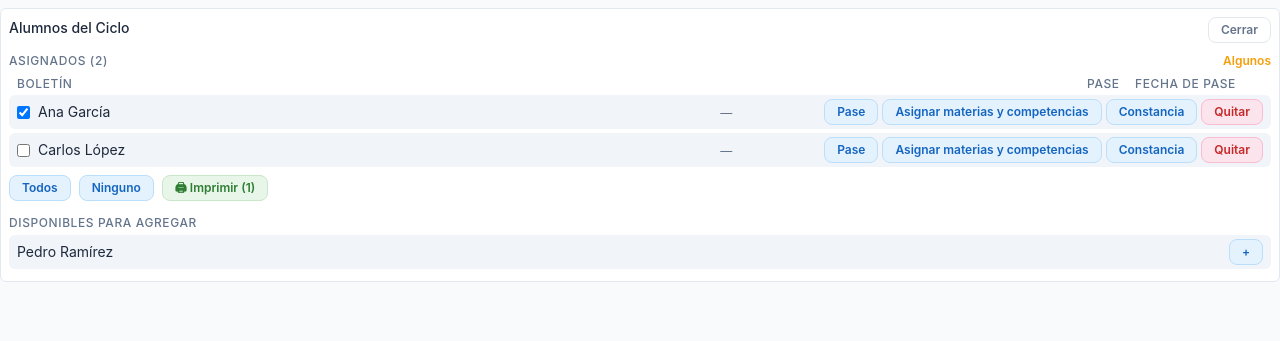
AlumnosCursoCicloPanel › W-17: success toast shows returned cascade counts
This screenshot has width=1280, height=341.
Step 1. Click the button with test id "btn-cascade-row-1" → (992, 112), box [882, 99, 1102, 125]
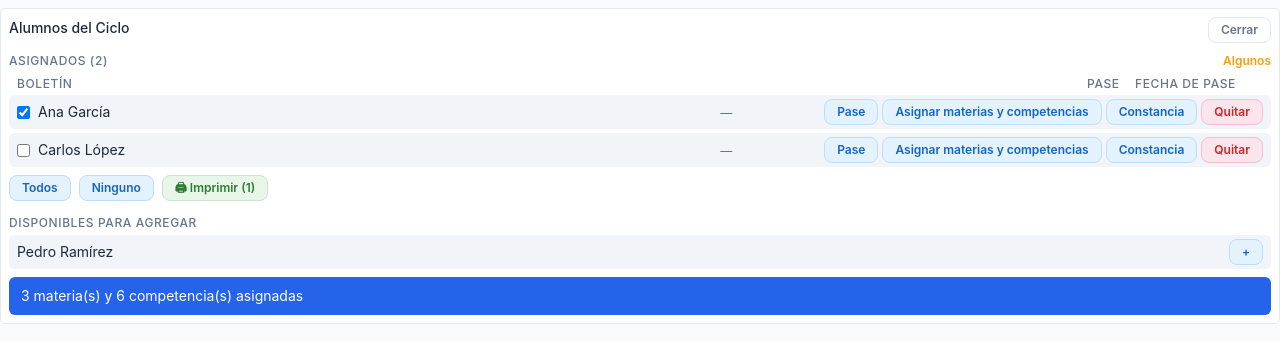
Expected: the text "3 materia(s) y 6 competencia(s) asignadas" is shown, [9, 277, 1271, 315]
